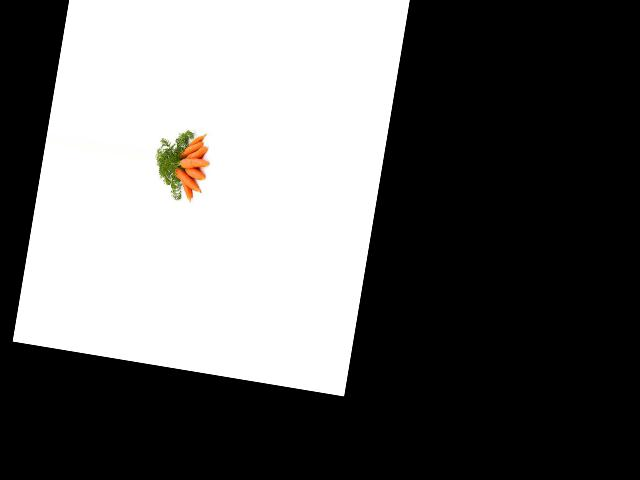carrot: (177, 176, 198, 201)
